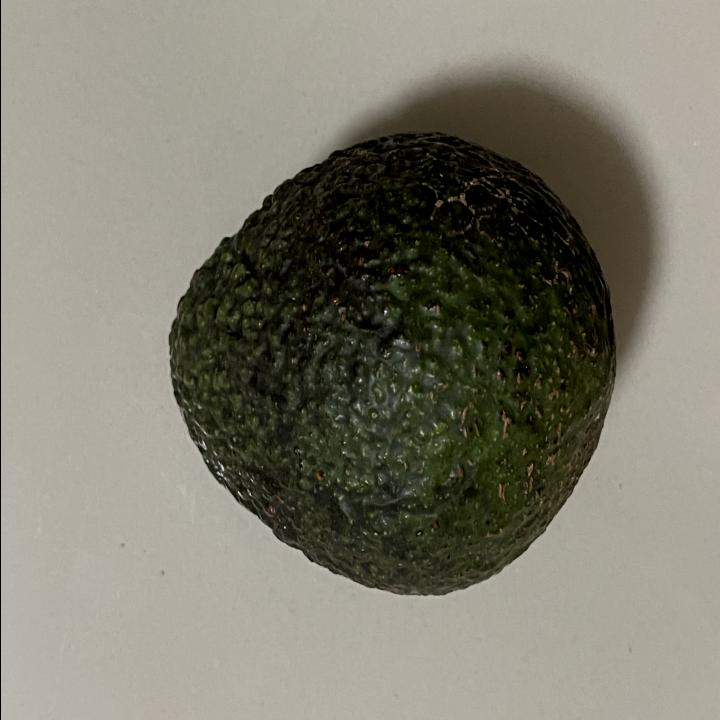Level1: (151, 114, 631, 616)
